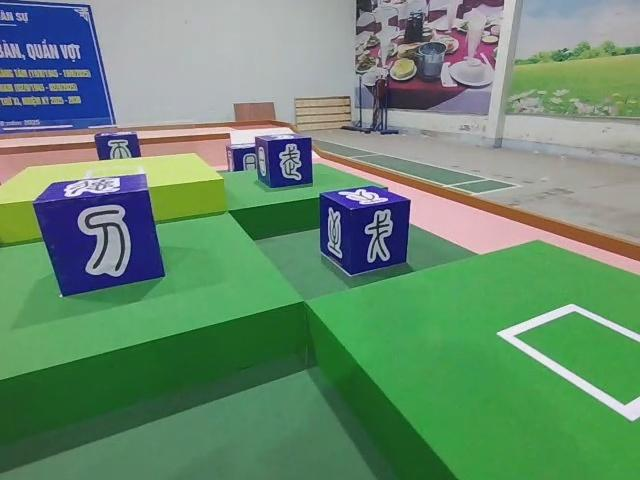R2 Fake Blue: (34, 173, 168, 300), (317, 186, 410, 276), (255, 134, 316, 189), (96, 132, 145, 163)
